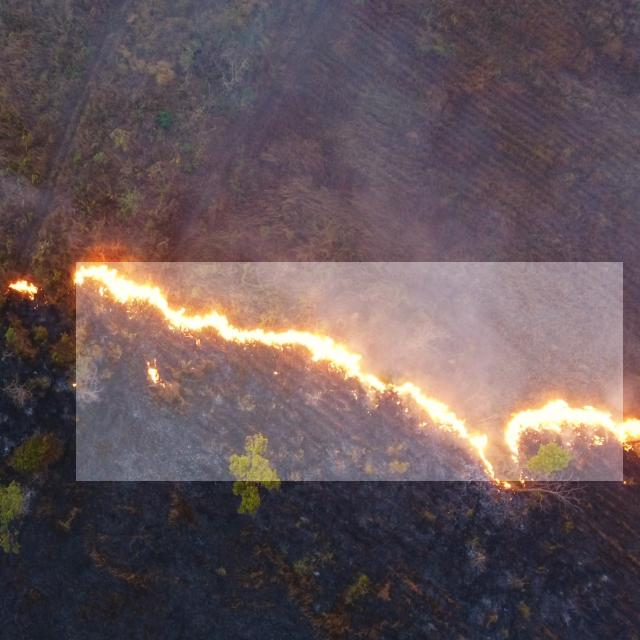Fire: (76, 262, 623, 481)
